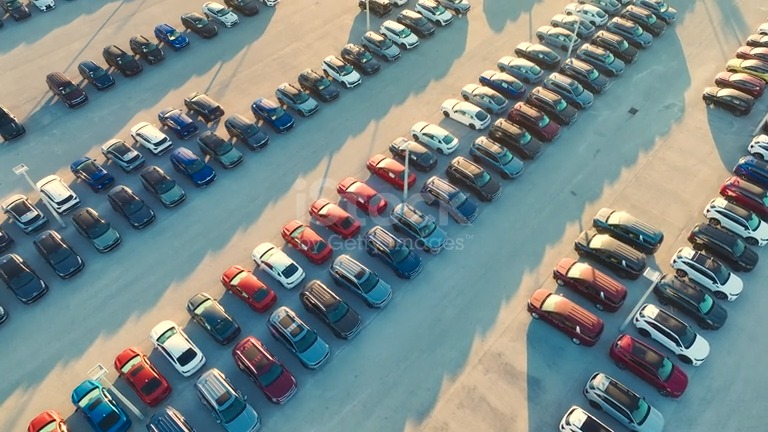car: (609, 334, 686, 397), (632, 303, 708, 366), (583, 372, 664, 431), (232, 336, 297, 404), (527, 289, 603, 346), (195, 369, 260, 431), (653, 275, 726, 329), (670, 247, 742, 301), (553, 258, 625, 311), (268, 306, 329, 368), (574, 229, 645, 279), (300, 280, 361, 338), (687, 223, 758, 270), (114, 348, 170, 405), (593, 208, 663, 253), (703, 197, 767, 246), (329, 255, 389, 307), (150, 320, 205, 375), (72, 380, 131, 431), (365, 226, 420, 278), (390, 203, 446, 253), (187, 293, 239, 344), (422, 176, 476, 223), (222, 265, 276, 311), (252, 242, 304, 288), (34, 230, 83, 278), (0, 253, 47, 303), (446, 156, 499, 200), (72, 207, 121, 252), (281, 220, 332, 263), (470, 137, 523, 178), (489, 119, 541, 159), (107, 185, 154, 228), (309, 198, 359, 238), (508, 102, 559, 141), (337, 177, 387, 215), (526, 87, 576, 124), (543, 72, 593, 109), (140, 165, 185, 206), (171, 147, 215, 186), (2, 194, 46, 233), (36, 175, 79, 214), (558, 58, 607, 92), (389, 137, 436, 171), (198, 131, 241, 167), (225, 114, 268, 150), (410, 121, 458, 153), (577, 44, 623, 76), (591, 30, 637, 62), (251, 97, 293, 132), (70, 157, 113, 191), (702, 87, 754, 115), (275, 82, 317, 116), (441, 99, 490, 128), (101, 139, 144, 172), (47, 72, 87, 107), (607, 17, 652, 48), (621, 5, 665, 36), (461, 84, 508, 113), (714, 71, 765, 97), (479, 70, 526, 98), (131, 122, 172, 154), (367, 154, 405, 188), (299, 69, 338, 101), (497, 56, 543, 83), (514, 42, 560, 69), (322, 55, 360, 87), (102, 45, 142, 75), (159, 107, 197, 138), (185, 92, 224, 122), (341, 43, 378, 74), (550, 14, 595, 39), (362, 31, 399, 61), (380, 20, 418, 49), (78, 60, 114, 89), (536, 26, 579, 50), (564, 3, 608, 26), (397, 10, 434, 37), (726, 58, 767, 82), (416, 0, 452, 26), (181, 12, 217, 37), (155, 23, 188, 50), (203, 2, 238, 27), (131, 37, 164, 63), (408, 174, 415, 186)
